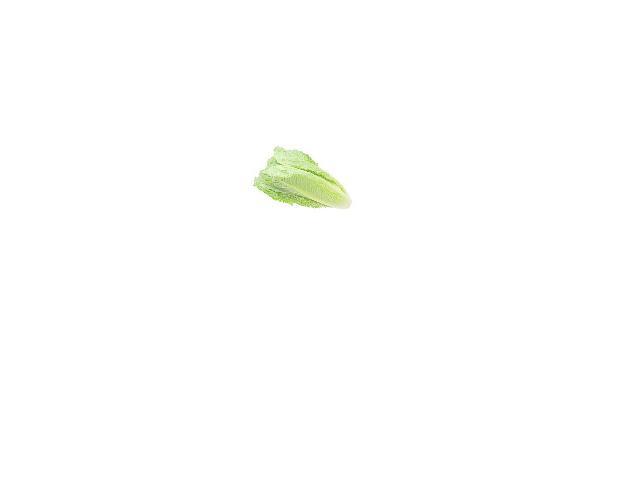lettuce: (253, 145, 360, 210)
